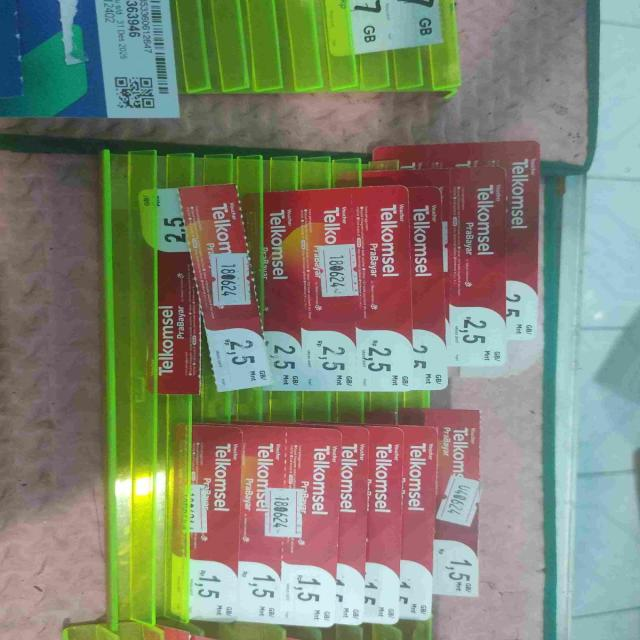Axis: (0, 0, 184, 116)
Telkomsel: (176, 409, 487, 625), (362, 144, 542, 380), (269, 189, 452, 393), (140, 190, 267, 394)
